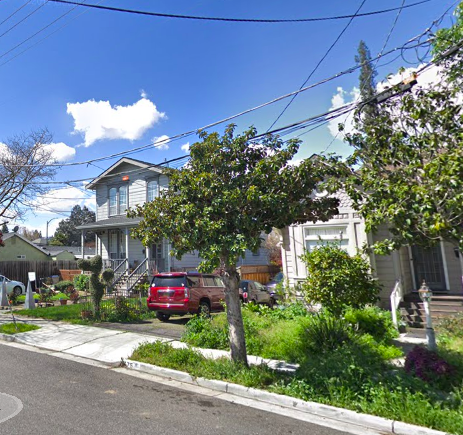tree: (125, 122, 340, 370)
